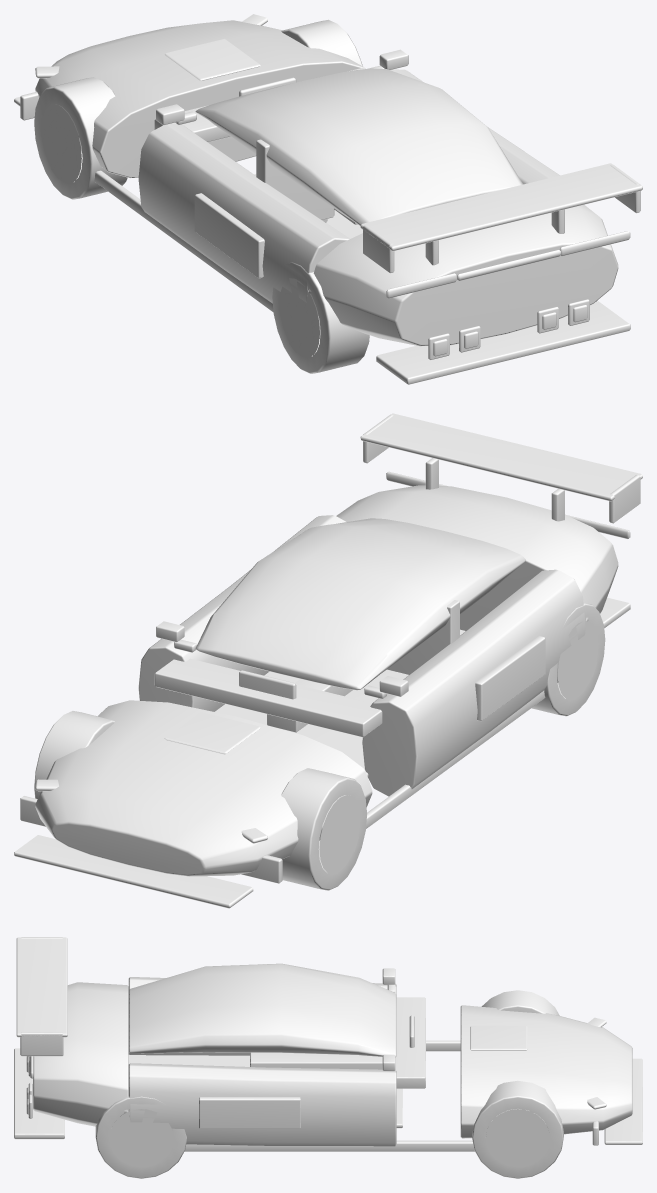
Rendered from volterra.glb.
3 views of the same model, one above another, from view 1: azimuth 30°, elevation 25°; view 2: azimuth 150°, elevation 25°; view 3: azimuth 270°, elevation 25° (orthographic). The views are drawn at different scales.
Parts seen in each view (by area): view 1: Body, Trim, Glass, Wheel_FL, Wheel_RL, Lamps, Wheel_FR; view 2: Body, Trim, Glass, Wheel_FL, Wheel_RL, Wheel_FR, Lamps; view 3: Body, Trim, Glass, Wheel_FR, Wheel_RR, Wheel_FL, Lamps.
Part boxes in pixels (box(x1,y1,x2,y2)): Body: box(35, 20, 618, 346); Trim: box(14, 39, 642, 384); Glass: box(195, 68, 523, 225); Wheel_FL: box(34, 77, 127, 199); Wheel_RL: box(272, 262, 369, 373); Lamps: box(35, 14, 630, 298); Wheel_FR: box(281, 19, 362, 65); Body: box(35, 485, 618, 876); Trim: box(14, 413, 642, 908); Glass: box(195, 518, 525, 690); Wheel_FL: box(281, 768, 366, 890); Wheel_RL: box(531, 603, 605, 716); Wheel_FR: box(34, 711, 114, 798); Lamps: box(35, 471, 630, 843); Body: box(33, 977, 632, 1146); Trim: box(14, 937, 642, 1151); Glass: box(128, 963, 396, 1056); Wheel_FR: box(472, 1080, 563, 1178); Wheel_RR: box(95, 1096, 186, 1178); Wheel_FL: box(481, 990, 559, 1015); Lamps: box(30, 1015, 606, 1109).
Size of the model in its own units: 2.06 by 1.22 by 4.93.
1 material, 1 textured.
